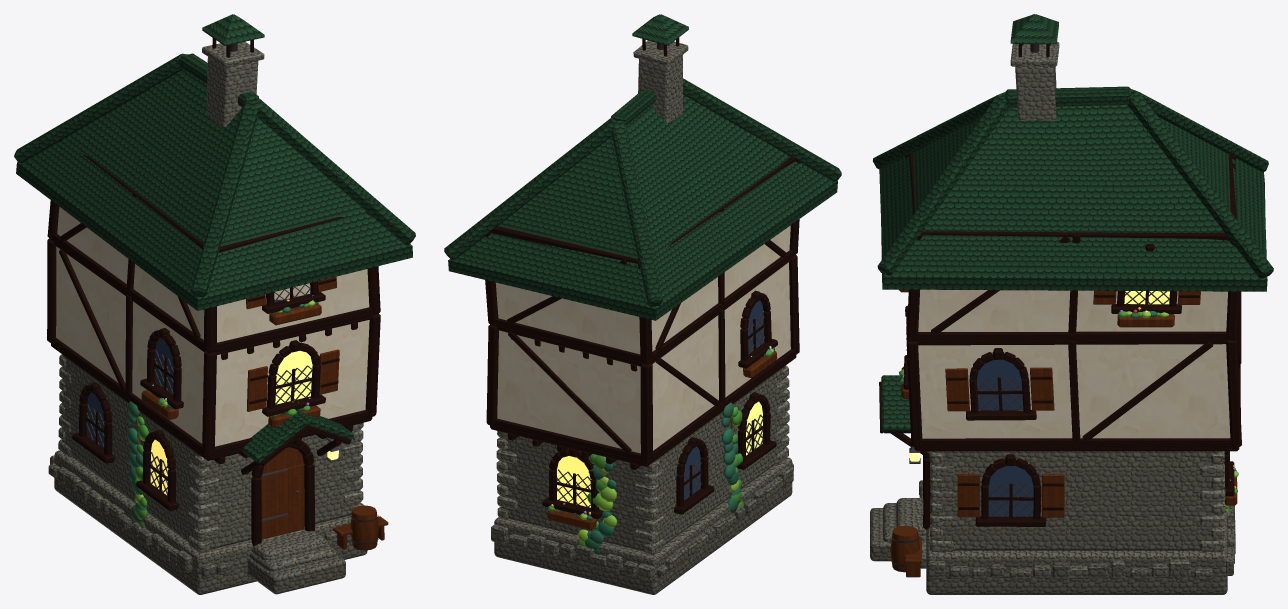
File: fantasy_townhouse.gltf
3 views of the same model, side by side, from view 1: azimuth 30°, elevation 25°; view 2: azimuth 150°, elevation 25°; view 3: azimuth 270°, elevation 25° (orthographic). The views are drawn at different scales.
Visible parts, largest first — view 1: fantasy_townhouse_roof_LOD0, fantasy_townhouse_base_LOD0, fantasy_townhouse_trim_LOD0, fantasy_townhouse_wall_LOD0, fantasy_townhouse_door_LOD0, fantasy_townhouse_flora_LOD0, fantasy_townhouse_metal_LOD0, fantasy_townhouse_glow_FFB65A_LOD0, fantasy_townhouse_glass_LOD0; view 2: fantasy_townhouse_roof_LOD0, fantasy_townhouse_base_LOD0, fantasy_townhouse_wall_LOD0, fantasy_townhouse_trim_LOD0, fantasy_townhouse_flora_LOD0, fantasy_townhouse_glow_FFB65A_LOD0, fantasy_townhouse_metal_LOD0, fantasy_townhouse_door_LOD0, fantasy_townhouse_glass_LOD0; view 3: fantasy_townhouse_roof_LOD0, fantasy_townhouse_base_LOD0, fantasy_townhouse_wall_LOD0, fantasy_townhouse_trim_LOD0, fantasy_townhouse_door_LOD0, fantasy_townhouse_glass_LOD0, fantasy_townhouse_metal_LOD0.
Part boxes in pixels (<box>): fantasy_townhouse_roof_LOD0: <box>14,14,415,463</box>; fantasy_townhouse_base_LOD0: <box>48,41,367,594</box>; fantasy_townhouse_trim_LOD0: <box>47,38,380,545</box>; fantasy_townhouse_wall_LOD0: <box>56,207,369,446</box>; fantasy_townhouse_door_LOD0: <box>141,276,388,550</box>; fantasy_townhouse_flora_LOD0: <box>127,295,318,528</box>; fantasy_townhouse_metal_LOD0: <box>86,43,378,544</box>; fantasy_townhouse_glow_FFB65A_LOD0: <box>150,350,312,494</box>; fantasy_townhouse_glass_LOD0: <box>87,299,283,447</box>; fantasy_townhouse_roof_LOD0: <box>444,14,841,320</box>; fantasy_townhouse_base_LOD0: <box>491,40,793,594</box>; fantasy_townhouse_wall_LOD0: <box>495,225,790,453</box>; fantasy_townhouse_trim_LOD0: <box>485,37,800,519</box>; fantasy_townhouse_flora_LOD0: <box>548,346,774,554</box>; fantasy_townhouse_glow_FFB65A_LOD0: <box>557,401,762,507</box>; fantasy_townhouse_metal_LOD0: <box>556,43,764,507</box>; fantasy_townhouse_door_LOD0: <box>547,350,777,530</box>; fantasy_townhouse_glass_LOD0: <box>684,300,764,499</box>; fantasy_townhouse_roof_LOD0: <box>873,14,1273,433</box>; fantasy_townhouse_base_LOD0: <box>870,41,1235,594</box>; fantasy_townhouse_wall_LOD0: <box>918,289,1230,438</box>; fantasy_townhouse_trim_LOD0: <box>879,44,1241,529</box>; fantasy_townhouse_door_LOD0: <box>890,289,1237,577</box>; fantasy_townhouse_glass_LOD0: <box>977,359,1033,516</box>; fantasy_townhouse_metal_LOD0: <box>890,44,1169,566</box>.
Size of what is drawn, in the model's own units: 6.8 by 14.63 by 9.91.
Materials: 10 (5 with a texture image).
